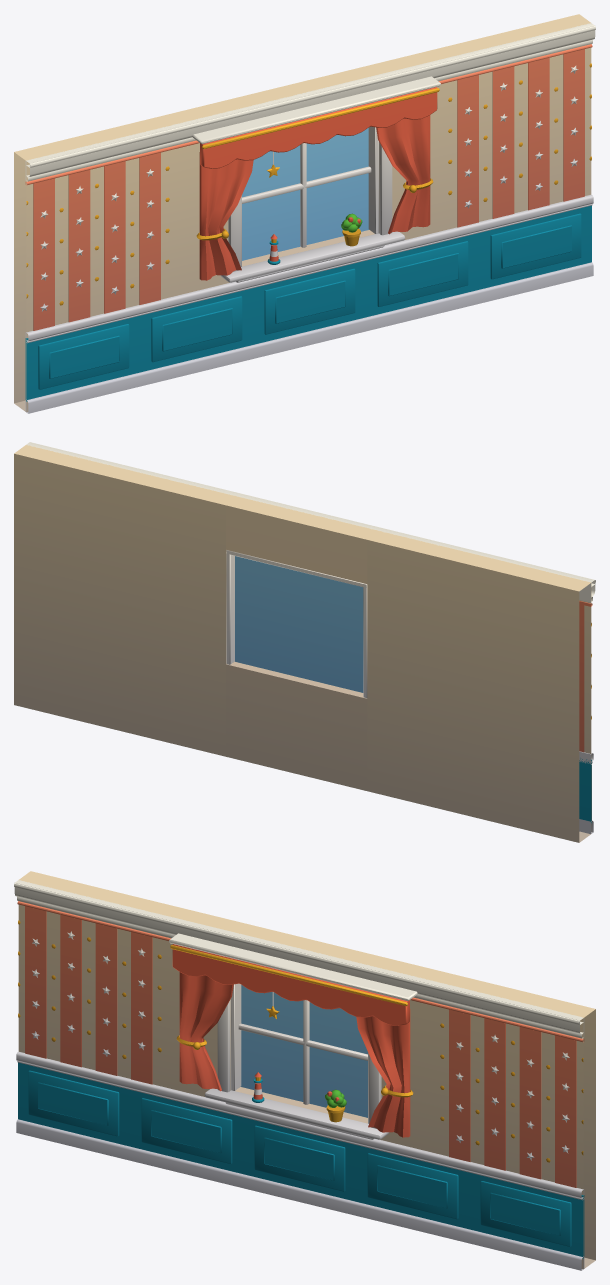
Rendered from home_wall_window.glb.
The picture shows the model from 3 angles, top to bottom: view 1: azimuth 30°, elevation 25°; view 2: azimuth 150°, elevation 25°; view 3: azimuth 330°, elevation 25°; orthographic projection.
Visible parts, largest first — view 1: home_wall_window; view 2: home_wall_window; view 3: home_wall_window.
Boxes of the visible parts, x1,y1,x2,y2 form: home_wall_window: (14, 14, 595, 413); home_wall_window: (14, 442, 595, 842); home_wall_window: (14, 871, 595, 1270).
Size of the model in its own units: 8 by 3.4 by 0.6148.
